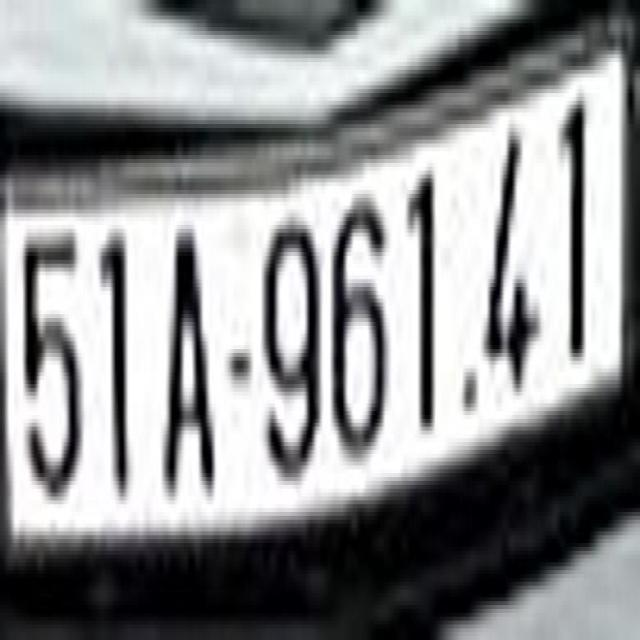1: (552, 70, 606, 376), (91, 217, 143, 512), (395, 155, 448, 442)
4: (481, 101, 543, 419)
5: (18, 218, 87, 532)
6: (328, 175, 388, 473)
9: (258, 194, 322, 493)
A: (159, 198, 216, 512)
